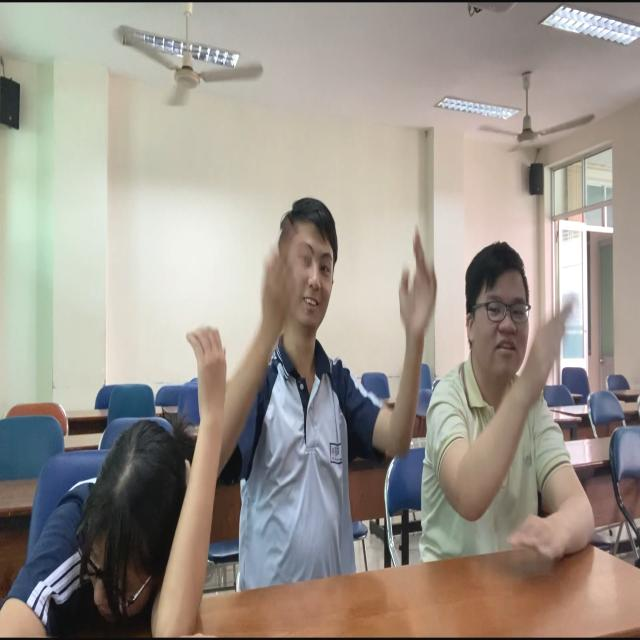raise_hand: (434, 232, 594, 569)
sleep: (1, 407, 211, 631)
